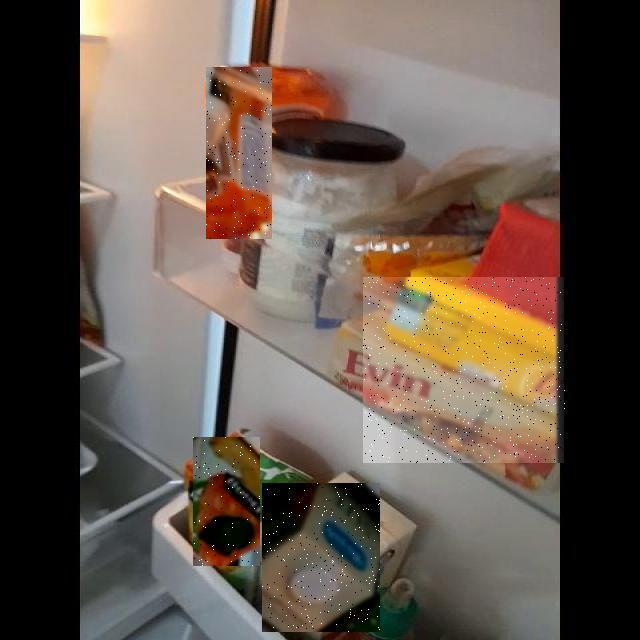Butter: (364, 277, 566, 463)
Juice: (193, 437, 260, 566)
Milk: (263, 483, 381, 632)
Sauce: (207, 67, 273, 239)
